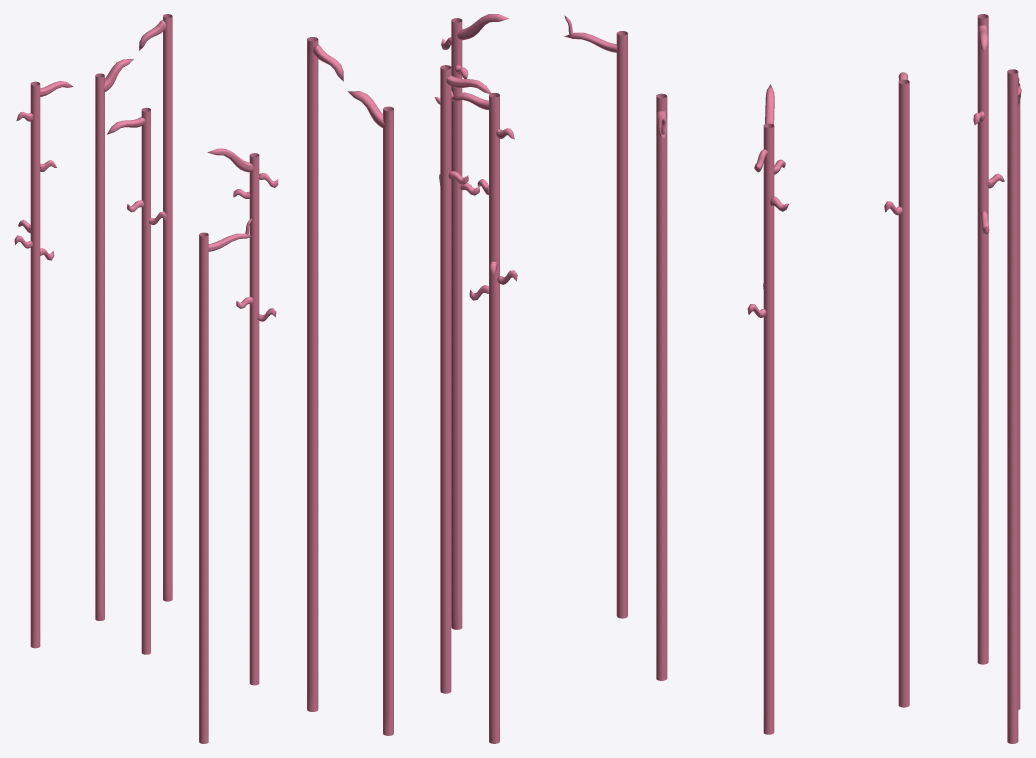
The model's file is arrow.fbx.
The picture shows the model from 3 angles, left to right: view 1: azimuth 30°, elevation 25°; view 2: azimuth 150°, elevation 25°; view 3: azimuth 270°, elevation 25°; orthographic projection. The views are drawn at different scales.
Visible parts, largest first — view 1: Tree 6.004, Tree 6.016, Tree 6.023, Tree 6.013, Tree 6.024, Tree 6.002; view 2: Tree 6.023, Tree 6.004, Tree 6.013, Tree 6.016, Tree 6.002, Tree 6.024; view 3: Tree 6.016, Tree 6.023, Tree 6.004, Tree 6.013, Tree 6.002, Tree 6.024.
Boxes of the visible parts, x1,y1,x2,y2 form: Tree 6.004: (14, 81, 73, 648); Tree 6.016: (207, 148, 278, 685); Tree 6.023: (138, 14, 172, 601); Tree 6.013: (106, 107, 166, 654); Tree 6.024: (95, 59, 133, 620); Tree 6.002: (199, 218, 253, 743); Tree 6.023: (307, 37, 343, 711); Tree 6.004: (449, 92, 517, 743); Tree 6.013: (439, 65, 491, 693); Tree 6.016: (434, 14, 509, 629); Tree 6.002: (564, 15, 627, 618); Tree 6.024: (348, 91, 393, 735); Tree 6.016: (747, 84, 788, 734); Tree 6.023: (1007, 69, 1019, 743); Tree 6.004: (973, 14, 1004, 664); Tree 6.013: (884, 72, 909, 707); Tree 6.002: (656, 93, 667, 680); Tree 6.024: (1018, 83, 1021, 709).
Size of the model in its own units: 3818 by 12637 by 6204.
